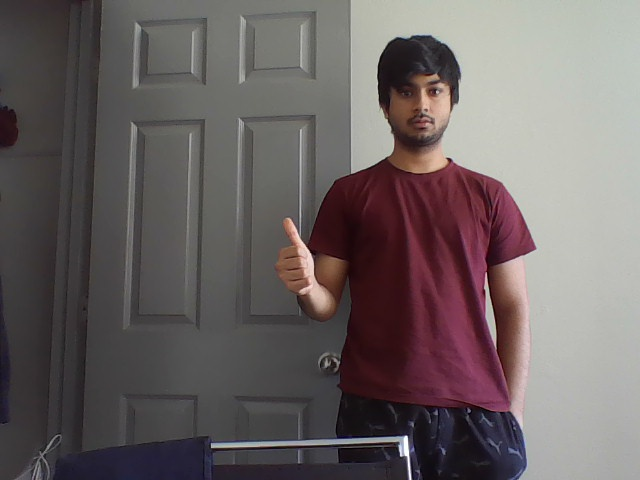confirm: (268, 214, 323, 301)
